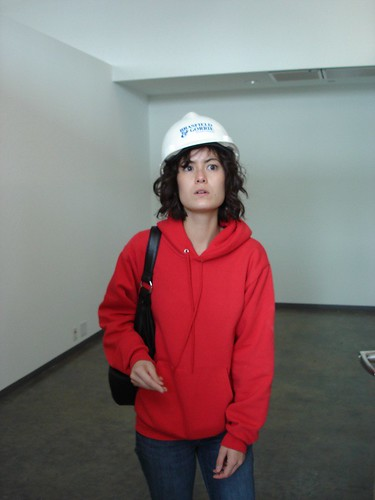person hardhat: (101, 114, 291, 500)
